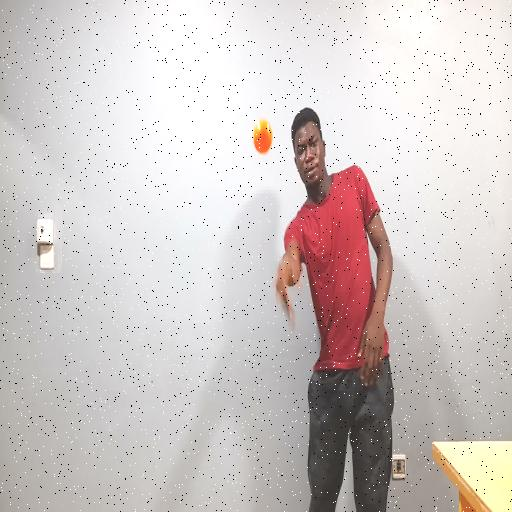plastic-ball: (248, 109, 278, 164)
